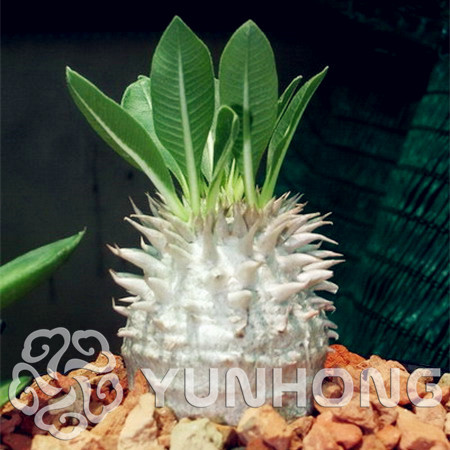Pachypodium saundersii: (70, 23, 381, 427)
